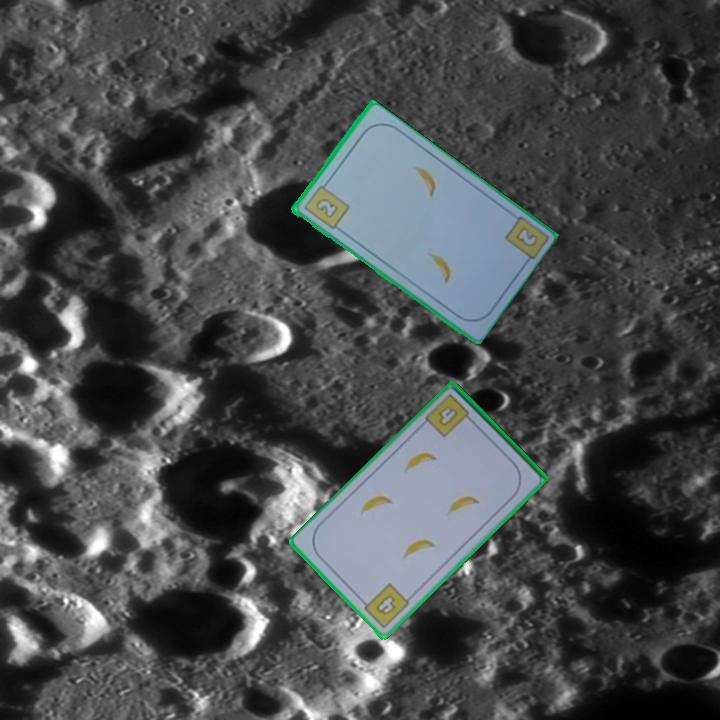2b: (300, 178, 352, 232), (512, 223, 541, 250)
4b: (357, 579, 412, 631), (421, 390, 477, 441)
